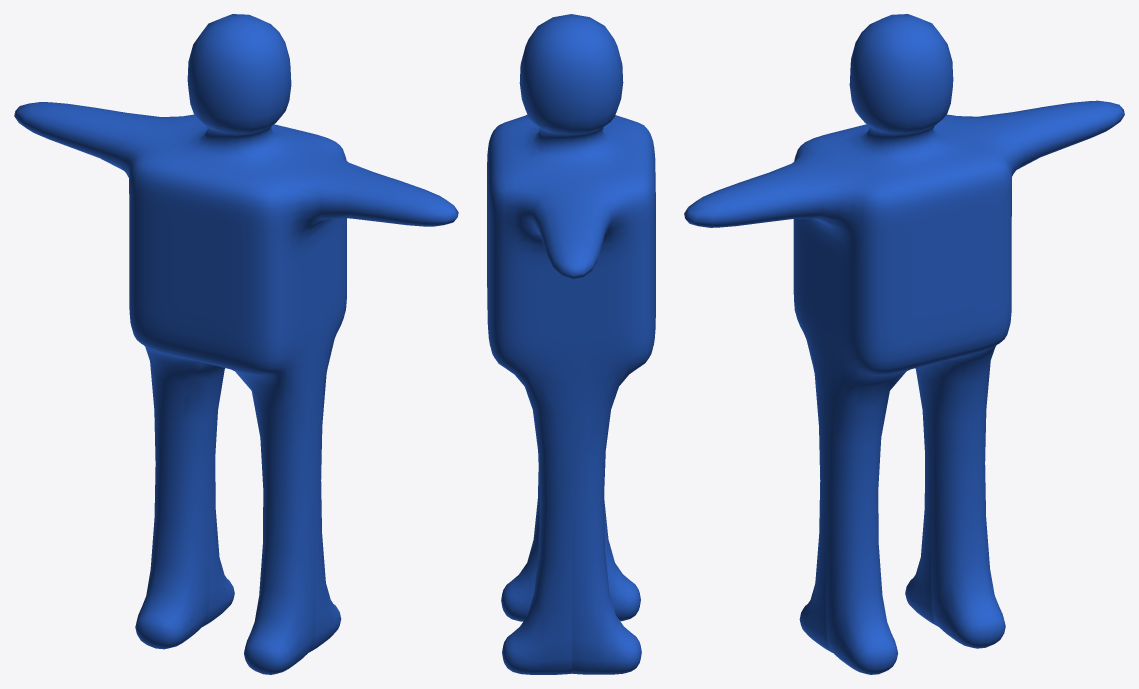
The model's file is human.obj.
3 views of the same model, side by side, from view 1: azimuth 30°, elevation 25°; view 2: azimuth 150°, elevation 25°; view 3: azimuth 270°, elevation 25° (orthographic).
Visible parts, largest first — view 1: Human_1; view 2: Human_1; view 3: Human_1.
Boxes of the visible parts, x1=… form: Human_1: x1=14, y1=14, x2=458, y2=674; Human_1: x1=487, y1=14, x2=655, y2=674; Human_1: x1=684, y1=14, x2=1124, y2=674.
Size of the model in its own units: 4.65 by 11.79 by 7.56.
